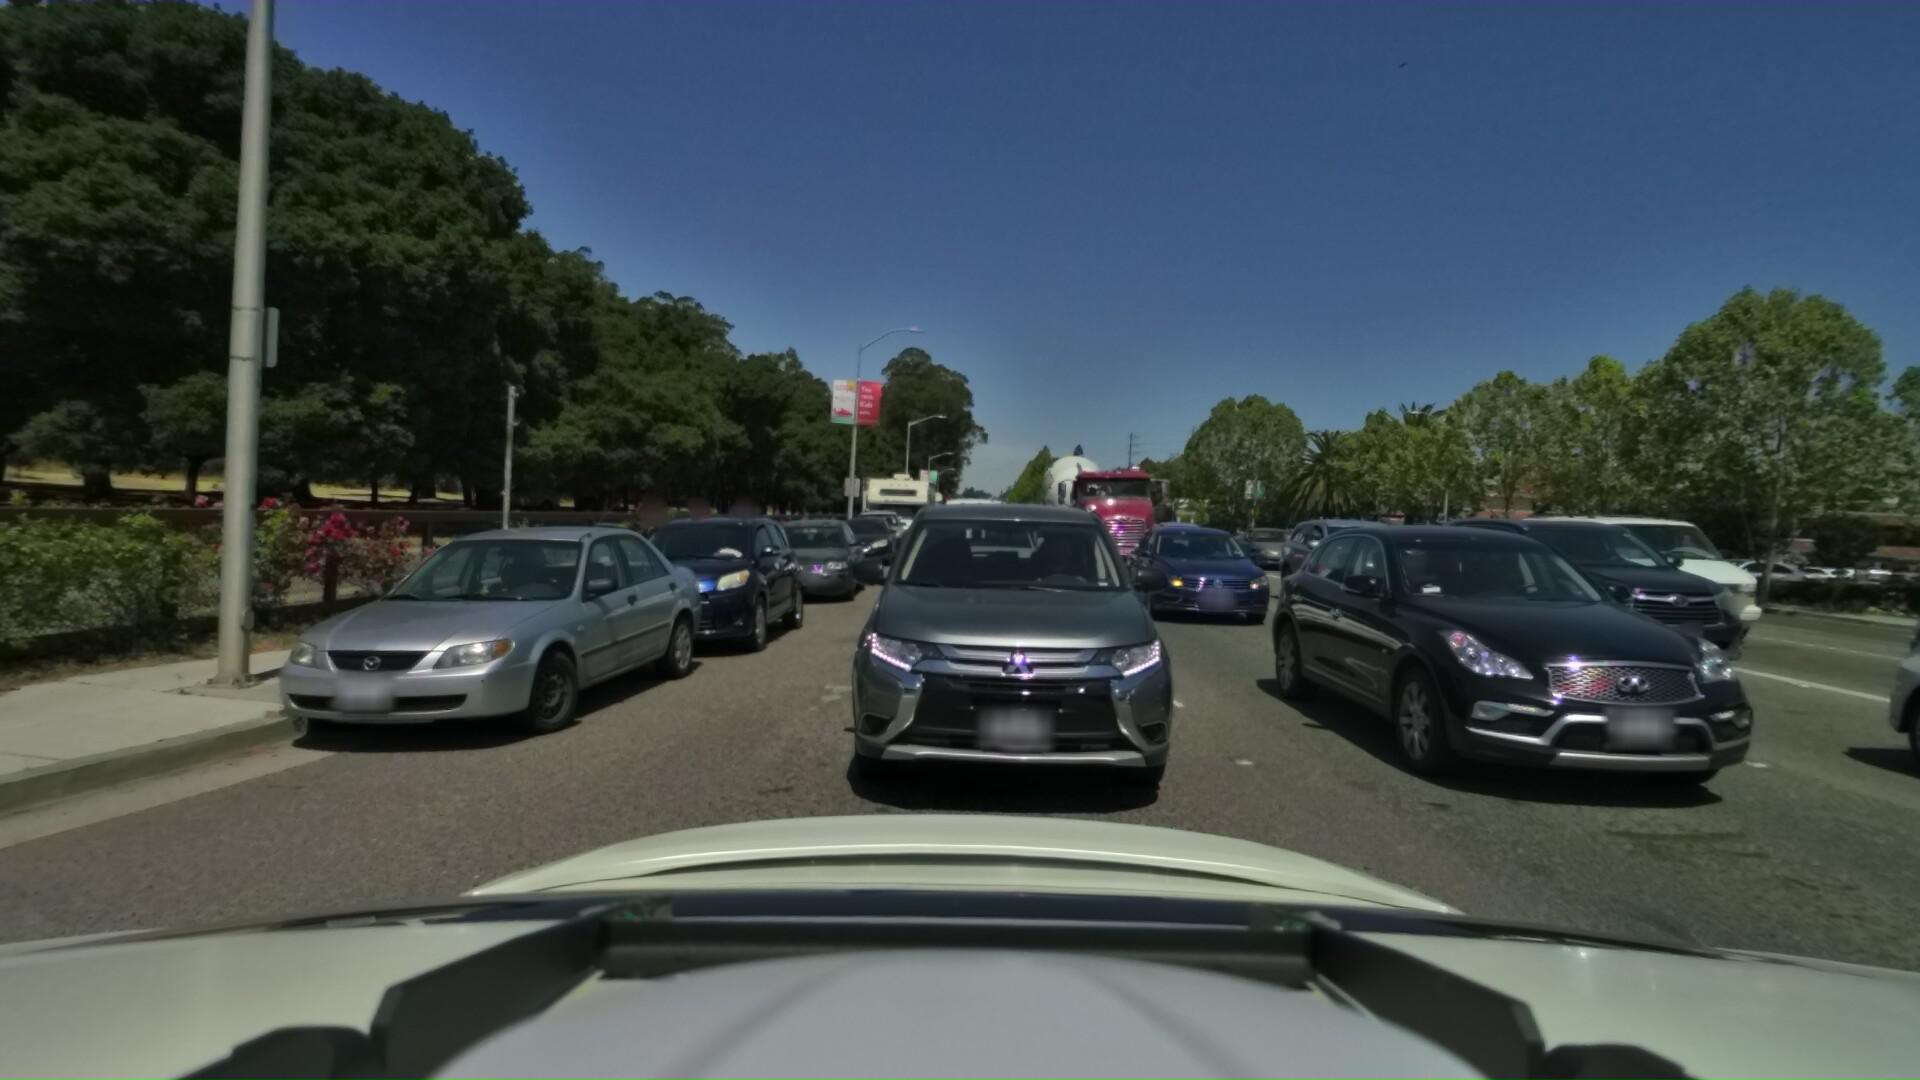car: (1250, 513, 1818, 829), (803, 460, 1222, 843), (236, 517, 713, 765), (1395, 504, 1776, 690), (1800, 524, 1920, 1035), (1474, 501, 1763, 641), (592, 508, 814, 658), (1269, 509, 1447, 615), (1116, 518, 1283, 630), (897, 492, 1021, 621), (752, 513, 868, 607), (924, 487, 1015, 568), (1677, 549, 1807, 591), (847, 493, 913, 556), (829, 506, 901, 564), (1127, 512, 1211, 560), (1215, 521, 1300, 567)
other_vehicle: (1025, 419, 1193, 582), (853, 450, 942, 550), (1025, 431, 1110, 520)
